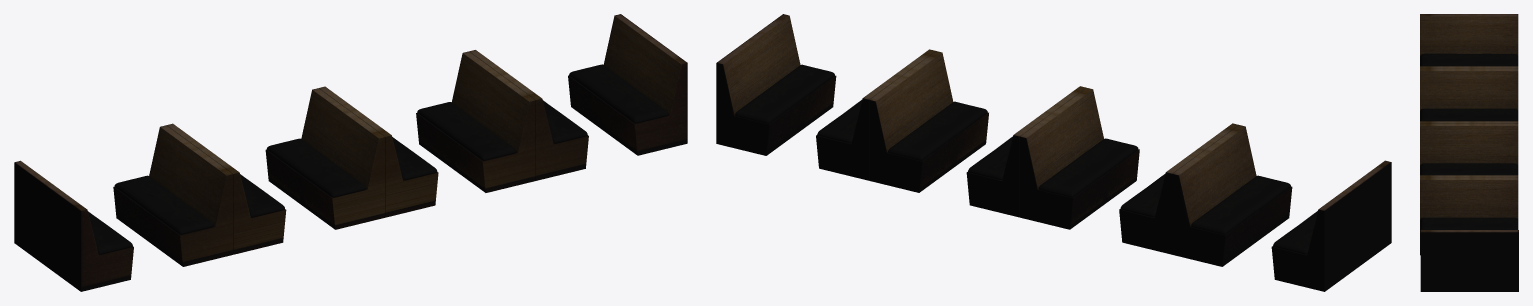
Rendered from Booths.obj.
3 views of the same model, side by side, from view 1: azimuth 30°, elevation 25°; view 2: azimuth 150°, elevation 25°; view 3: azimuth 270°, elevation 25° (orthographic). The views are drawn at different scales.
Visible parts, largest first — view 1: Cube.001_Cube.000; view 2: Cube.001_Cube.000; view 3: Cube.001_Cube.000.
Boxes of the visible parts, <box> form: Cube.001_Cube.000: <box>14,14,687,291</box>; Cube.001_Cube.000: <box>716,14,1391,291</box>; Cube.001_Cube.000: <box>1420,14,1518,291</box>.
Size of the model in its own units: 48.83 by 6.21 by 9.35.
1 material, 1 textured.
